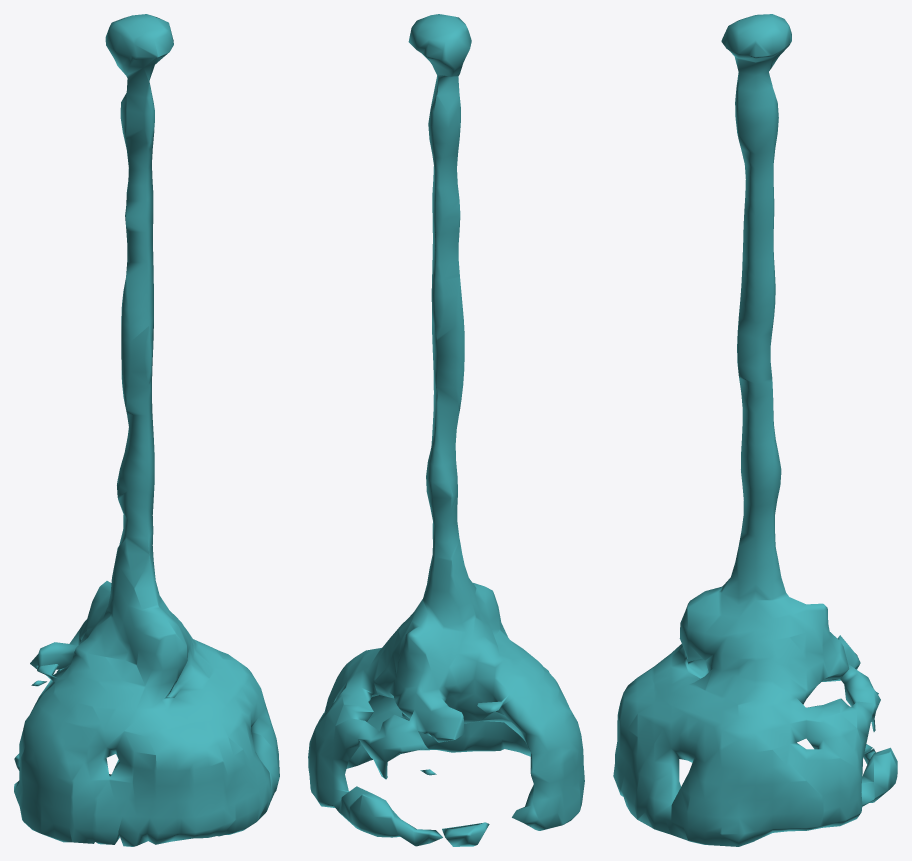
Rendered from lamp_7_6.obj.
3 renders of one model, left to right at view 1: azimuth 30°, elevation 25°; view 2: azimuth 150°, elevation 25°; view 3: azimuth 270°, elevation 25°, orthographic.
Bounding box in the file's own units: 0.2533 × 0.8009 × 0.2629.
